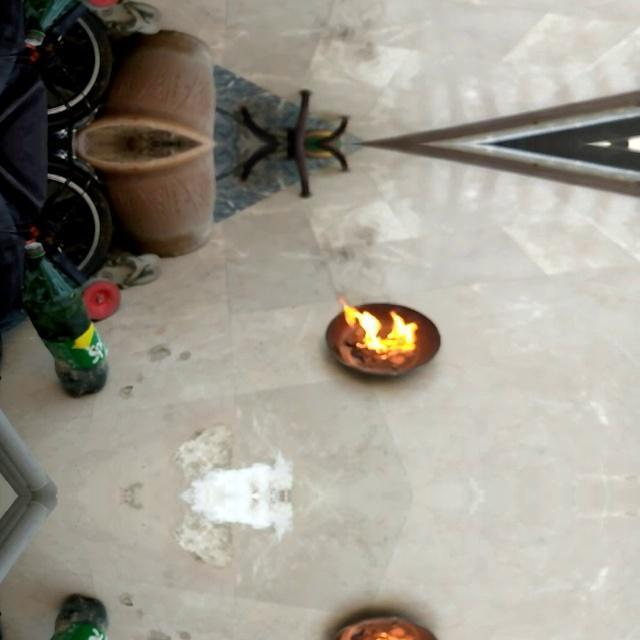smoke: (340, 296, 418, 358)
